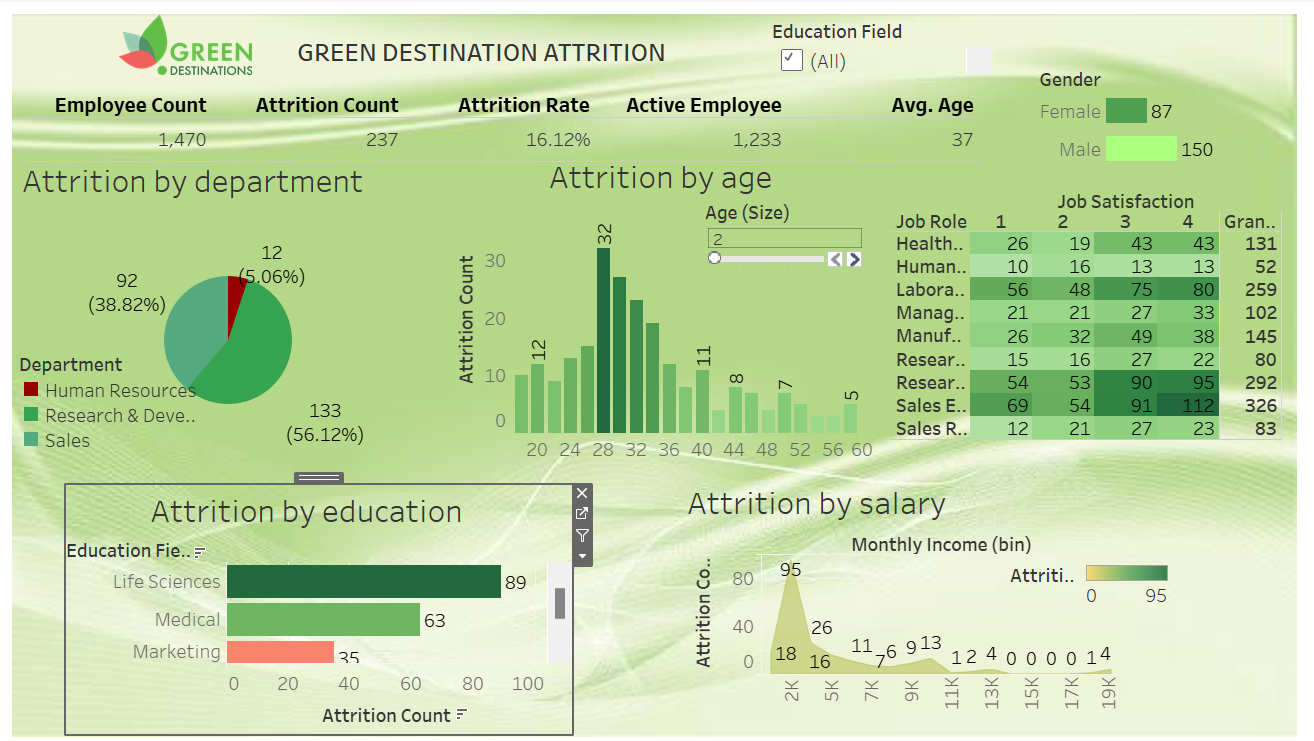

Layout of this report page (visuals, bound fields, positions):
{"tool":"tableau","page":{"name":"GREEN DESTINATION's","canvas":[1000,1000],"units":"permille","ordinal":0},"visuals":[{"type":"image","param":"Image/Untitled presentation.png","box":[5.7,10.7,988.6,978.6]},{"type":"image","param":"Image/Project_Logo.png","box":[116.4,13.4,95.7,87]},{"type":"filter","title":"KPI'S","param":"[federated.1en6idv0qqa8qh19nttjv0nztnm8].[none:EducationField:nk]","box":[583.6,21.4,157.1,75]},{"type":"worksheet","title":"Sheet 10","mark":"Automatic","box":[212.1,38.8,327.9,68.3]},{"type":"worksheet","title":"Attrition By Male & Female","mark":"Bar","rows":["Gender"],"cols":["Calculation_1277614952558092288"],"box":[765,60.2,140,179.4]},{"type":"worksheet","title":"KPI'S","mark":"Automatic","box":[45.7,100.4,685.7,113.8]},{"type":"worksheet","title":"Attrition By AGE","mark":"Automatic","rows":["Calculation_1277614952558092288"],"cols":["Age (bin)"],"box":[350.7,199.5,306.4,416.3]},{"type":"worksheet","title":"Attrition by Departments ","mark":"Pie","box":[45,204.8,300,419]},{"type":"worksheet","title":"Job Satifaction's Role","mark":"Square","rows":["JobRole"],"cols":["JobSatisfaction"],"box":[667.9,253,280,333.3]},{"type":"parameter","param":"[Parameters].[Parameter 1]","box":[535.7,263.7,114.3,100.4]},{"type":"legend","title":"Attrition by Departments ","param":"[federated.1en6idv0qqa8qh19nttjv0nztnm8].[none:Department:nk]","box":[45.7,467.2,131.4,136.6]},{"type":"worksheet","title":"Attriton by salary","mark":"Area","rows":["Calculation_1277614952558092288"],"cols":["Monthly Income (bin)"],"box":[520,635.9,415.7,313.2]},{"type":"worksheet","title":"Attrition By Education","mark":"Automatic","rows":["EducationField"],"cols":["Calculation_1277614952558092288"],"box":[79.3,646.6,361.4,333.3]},{"type":"legend","title":"Attriton by salary","param":"[federated.1en6idv0qqa8qh19nttjv0nztnm8].[sum:Calculation_1277614952558092288:qk","box":[753.6,748.3,115.7,68.3]}]}

Visuals, with their boxes on the dashboard's canvas, which has no fixed pixel size, in thousandths of its width and height (x1, y1, x2, y2). These are canvas units, not pixel positions in the 1314x741 screenshot, which may show the page scaled, cropped or inside an application window:
image: left=6, top=11, right=994, bottom=989
image: left=116, top=13, right=212, bottom=100
"KPI'S" filter: left=584, top=21, right=741, bottom=96
"Sheet 10" worksheet: left=212, top=39, right=540, bottom=107
"Attrition By Male & Female" worksheet (Bar marks): left=765, top=60, right=905, bottom=240
"KPI'S" worksheet: left=46, top=100, right=731, bottom=214
"Attrition By AGE" worksheet: left=351, top=200, right=657, bottom=616
"Attrition by Departments " worksheet (Pie marks): left=45, top=205, right=345, bottom=624
"Job Satifaction's Role" worksheet (Square marks): left=668, top=253, right=948, bottom=586
parameter: left=536, top=264, right=650, bottom=364
"Attrition by Departments " legend: left=46, top=467, right=177, bottom=604
"Attriton by salary" worksheet (Area marks): left=520, top=636, right=936, bottom=949
"Attrition By Education" worksheet: left=79, top=647, right=441, bottom=980
"Attriton by salary" legend: left=754, top=748, right=869, bottom=817
